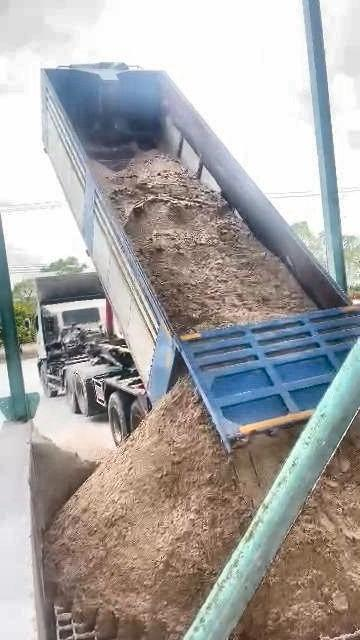sand: (36, 377, 297, 639), (93, 143, 314, 332), (233, 430, 360, 639)
